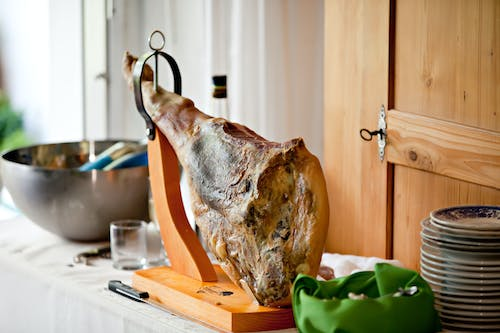knife: (108, 279, 229, 333)
